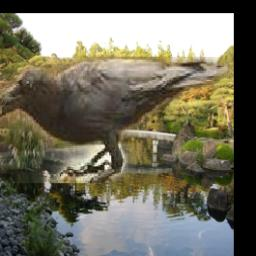Crow: (0, 58, 231, 184)
